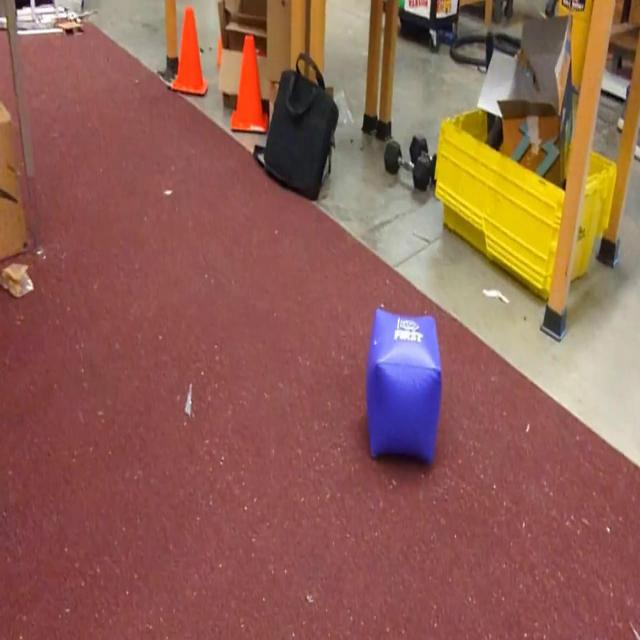frc_cube: (366, 306, 443, 466)
